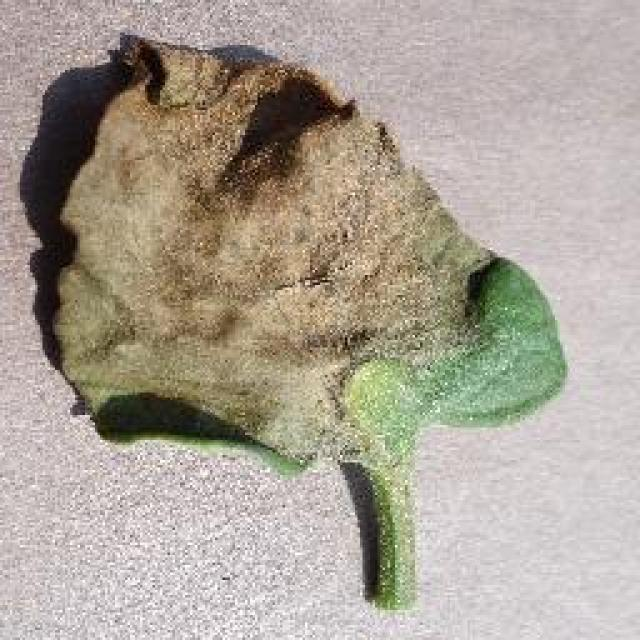Tomato late blight leaf: (55, 31, 565, 464)
